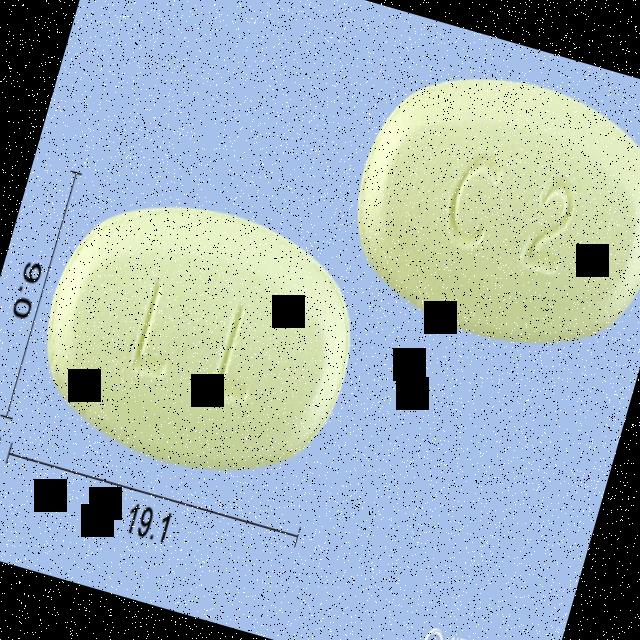Clratomin: (19, 172, 382, 504), (331, 40, 640, 372)
